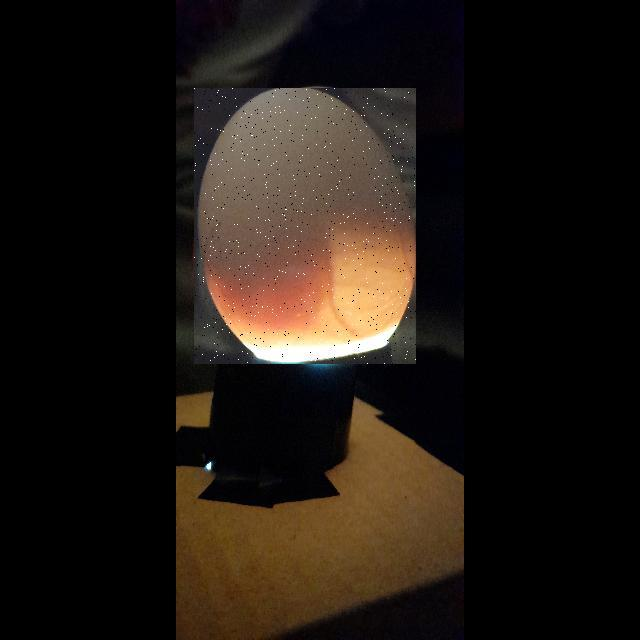Fertile: (194, 88, 416, 364)
